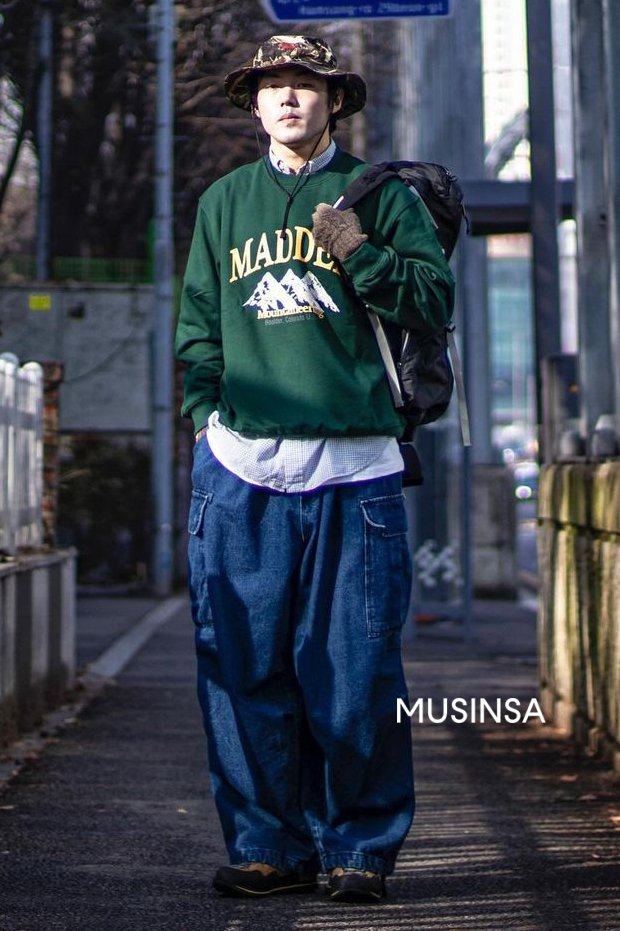Backpack: (383, 156, 466, 434)
Hat: (216, 28, 368, 109)
Jeans: (197, 449, 415, 860)
Shoes: (212, 849, 403, 911)
Sweatshirt: (176, 151, 457, 444)
